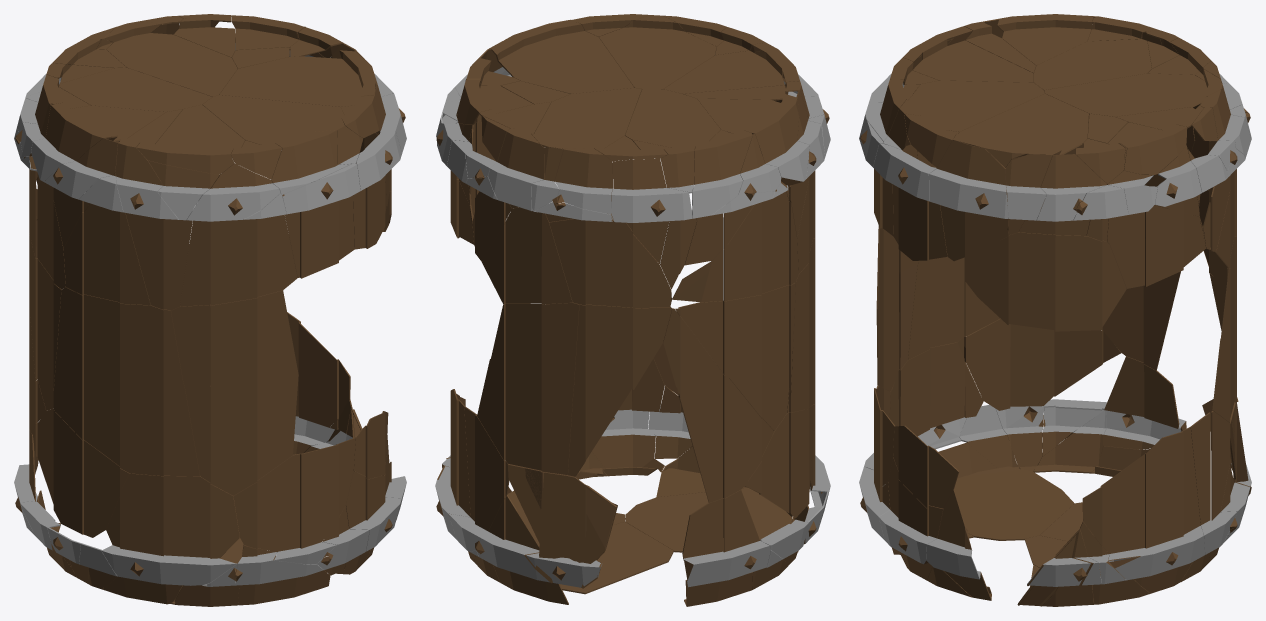
File: barrel-pieces-redone.fbx
The picture shows the model from 3 angles, left to right: view 1: azimuth 30°, elevation 25°; view 2: azimuth 150°, elevation 25°; view 3: azimuth 270°, elevation 25°; orthographic projection.
Parts seen in each view (by area): view 1: barrel_cell.086, barrel_cell.023, barrel_cell.074, barrel_cell.057, barrel_cell.073, barrel_cell.055, barrel_cell.079, barrel_cell.093, barrel_cell.029, barrel_cell.040, barrel_cell.028, barrel_cell.071 (+6 smaller); view 2: barrel_cell.043, barrel_cell.055, barrel_cell.030, barrel_cell.089, barrel_cell.028, barrel_cell.053, barrel_cell.032, barrel_cell.074, barrel_cell.040, barrel_cell.086, barrel_cell.023, barrel_cell.027 (+8 smaller); view 3: barrel_cell.027, barrel_cell.028, barrel_cell.086, barrel_cell.032, barrel_cell.074, barrel_cell.073, barrel_cell.023, barrel_cell.071, barrel_cell.040, barrel_cell.029, barrel_cell.043, barrel_cell.055 (+8 smaller).
Part boxes in pixels (x1,y1,x2,y2): barrel_cell.086: [32, 350, 239, 585]; barrel_cell.023: [115, 104, 297, 310]; barrel_cell.074: [233, 411, 406, 575]; barrel_cell.057: [57, 173, 183, 384]; barrel_cell.073: [271, 95, 402, 278]; barrel_cell.055: [14, 74, 165, 289]; barrel_cell.079: [184, 376, 298, 495]; barrel_cell.093: [171, 290, 298, 387]; barrel_cell.029: [104, 15, 237, 96]; barrel_cell.040: [219, 47, 375, 106]; barrel_cell.028: [233, 312, 381, 530]; barrel_cell.071: [170, 532, 330, 606]; barrel_cell.043: [477, 302, 671, 588]; barrel_cell.055: [672, 90, 825, 302]; barrel_cell.030: [533, 136, 696, 308]; barrel_cell.089: [663, 282, 795, 502]; barrel_cell.028: [435, 389, 673, 604]; barrel_cell.053: [466, 128, 572, 304]; barrel_cell.032: [682, 490, 828, 606]; barrel_cell.074: [556, 342, 692, 479]; barrel_cell.040: [491, 19, 634, 104]; barrel_cell.086: [745, 312, 830, 518]; barrel_cell.023: [663, 27, 829, 194]; barrel_cell.027: [436, 20, 568, 244]; barrel_cell.027: [929, 122, 1205, 331]; barrel_cell.028: [1017, 411, 1250, 606]; barrel_cell.086: [889, 257, 1121, 449]; barrel_cell.032: [938, 356, 1186, 478]; barrel_cell.074: [859, 385, 991, 600]; barrel_cell.073: [859, 79, 959, 260]; barrel_cell.023: [869, 21, 1036, 168]; barrel_cell.071: [864, 453, 1074, 554]; barrel_cell.040: [953, 93, 1127, 167]; barrel_cell.029: [1044, 69, 1222, 130]; barrel_cell.043: [1199, 190, 1251, 495]; barrel_cell.055: [982, 14, 1161, 154].
Bounding box in the file's own units: 268 × 341 × 268.
